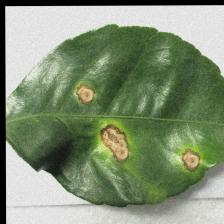canker: (73, 77, 218, 196)
